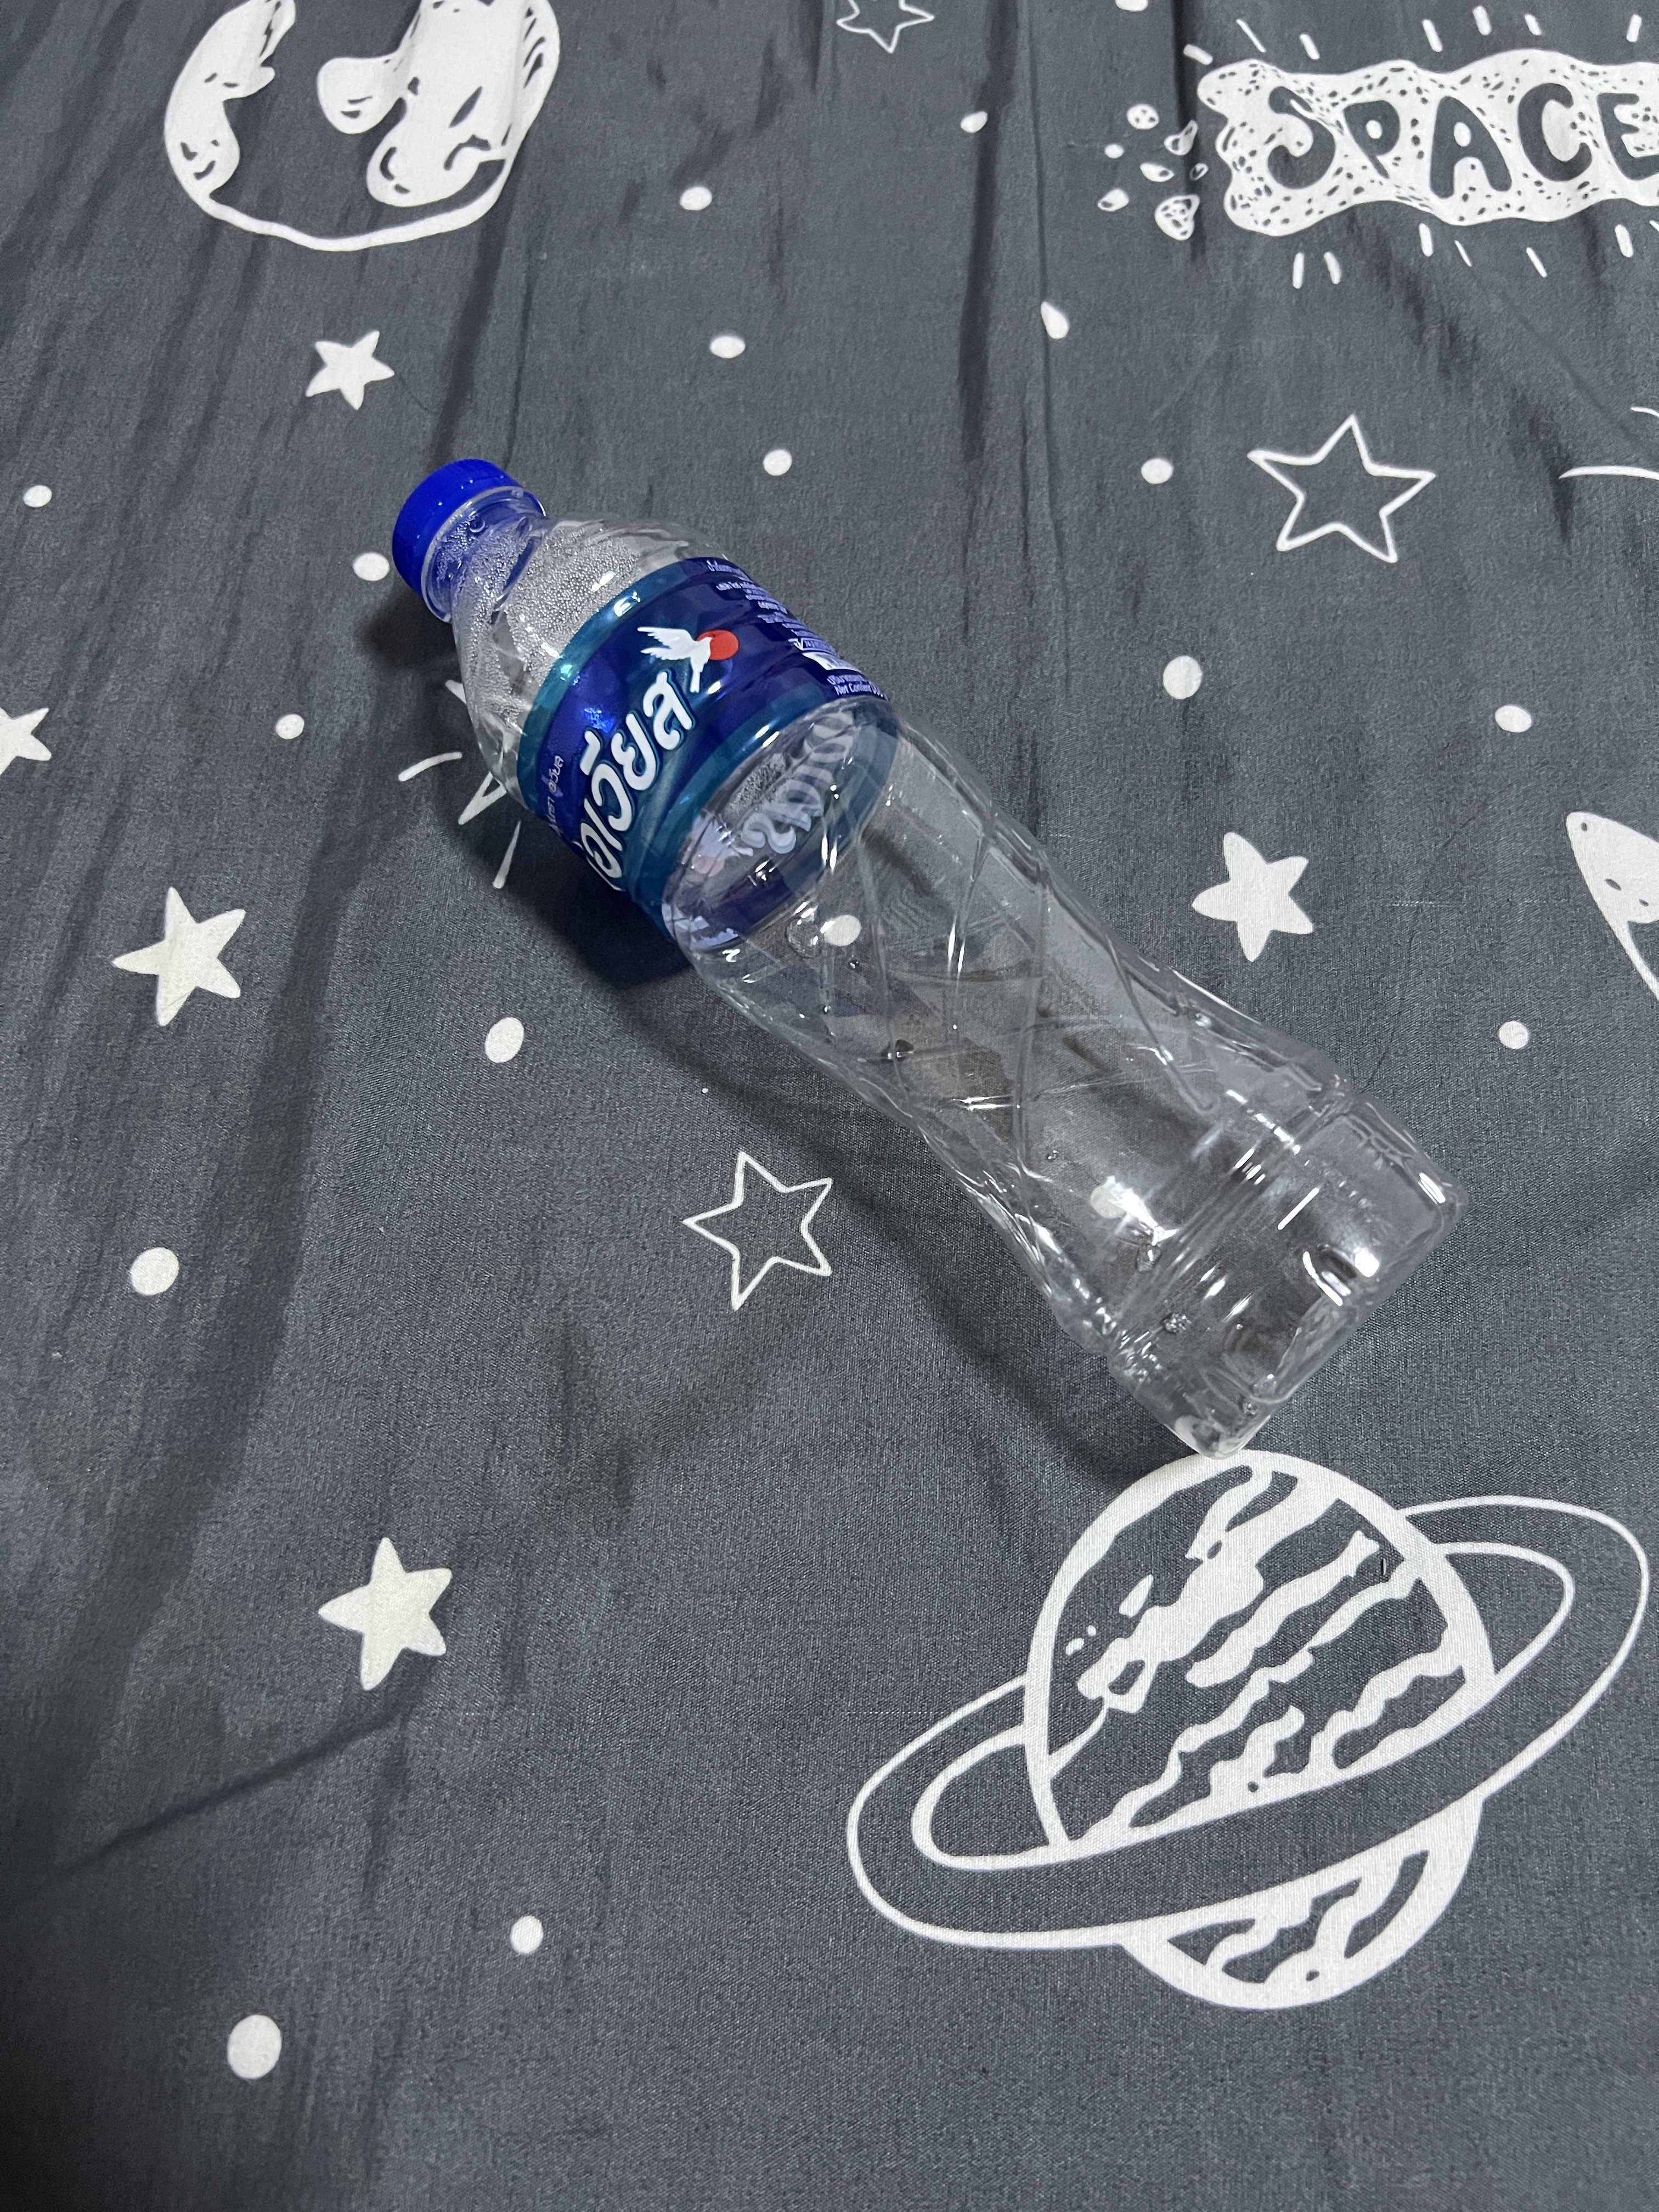plastic_bottle: (336, 420, 1504, 1491)
